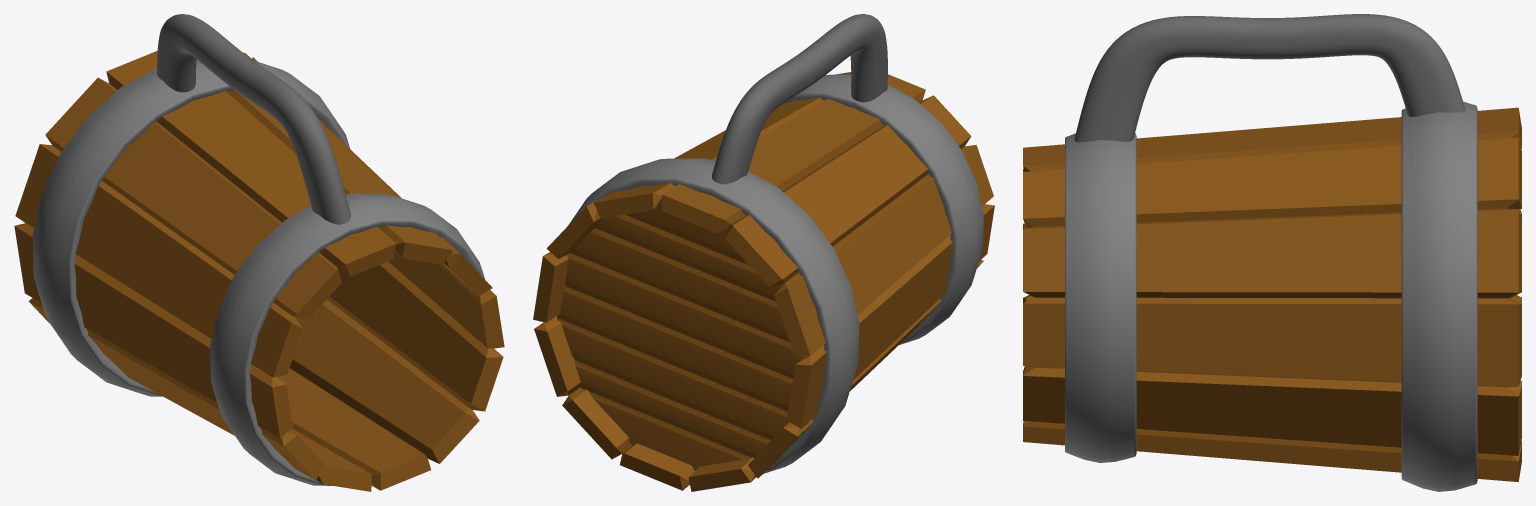
The model's file is Empty Mug.glb.
3 views of the same model, side by side, from view 1: azimuth 30°, elevation 25°; view 2: azimuth 150°, elevation 25°; view 3: azimuth 270°, elevation 25° (orthographic). The views are drawn at different scales.
Parts seen in each view (by area): view 1: handle.009; view 2: handle.009; view 3: handle.009.
Part boxes in pixels (x1,y1,x2,y2): handle.009: [14, 14, 504, 491]; handle.009: [533, 14, 994, 491]; handle.009: [1023, 14, 1521, 491].
Size of the model in its own units: 21.04 by 25.98 by 26.76.
